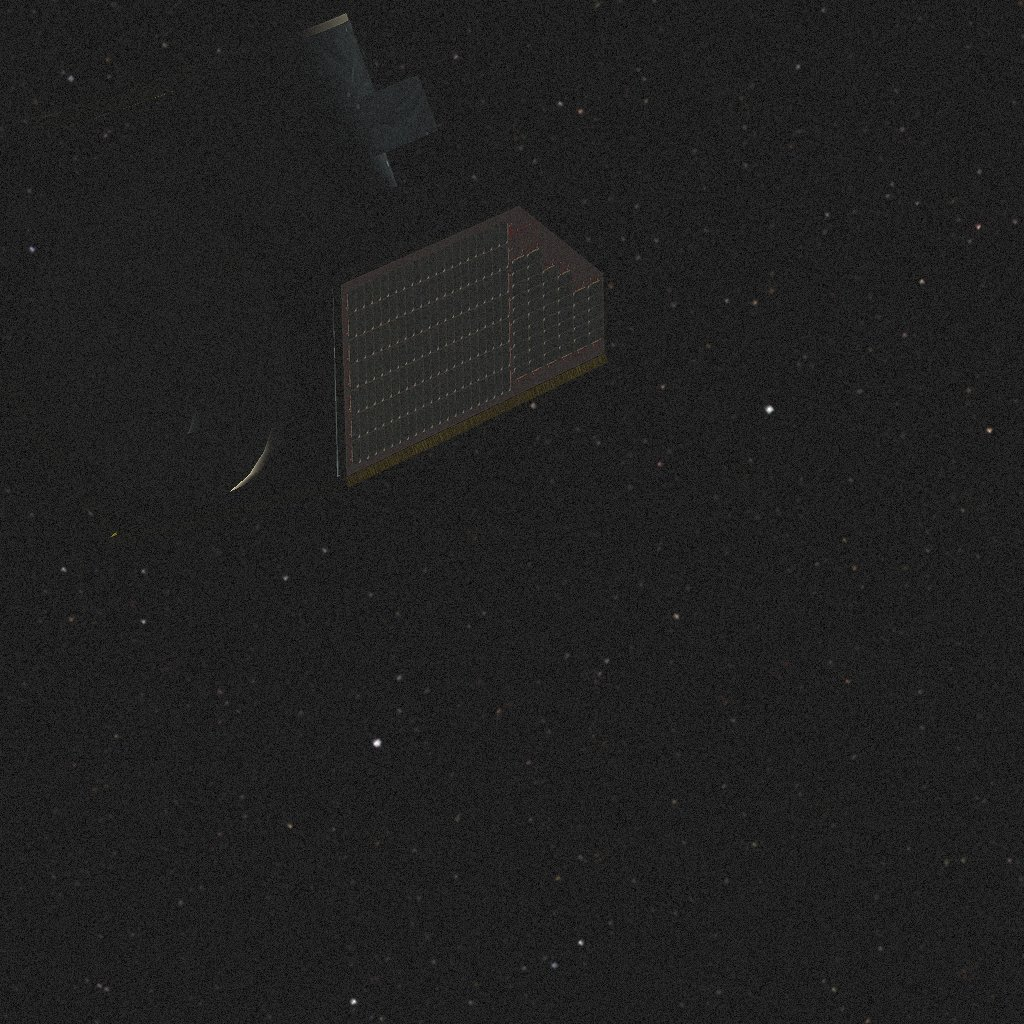cheops: (0, 13, 608, 548)
